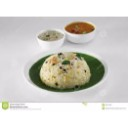venpongal: (44, 53, 92, 89)
